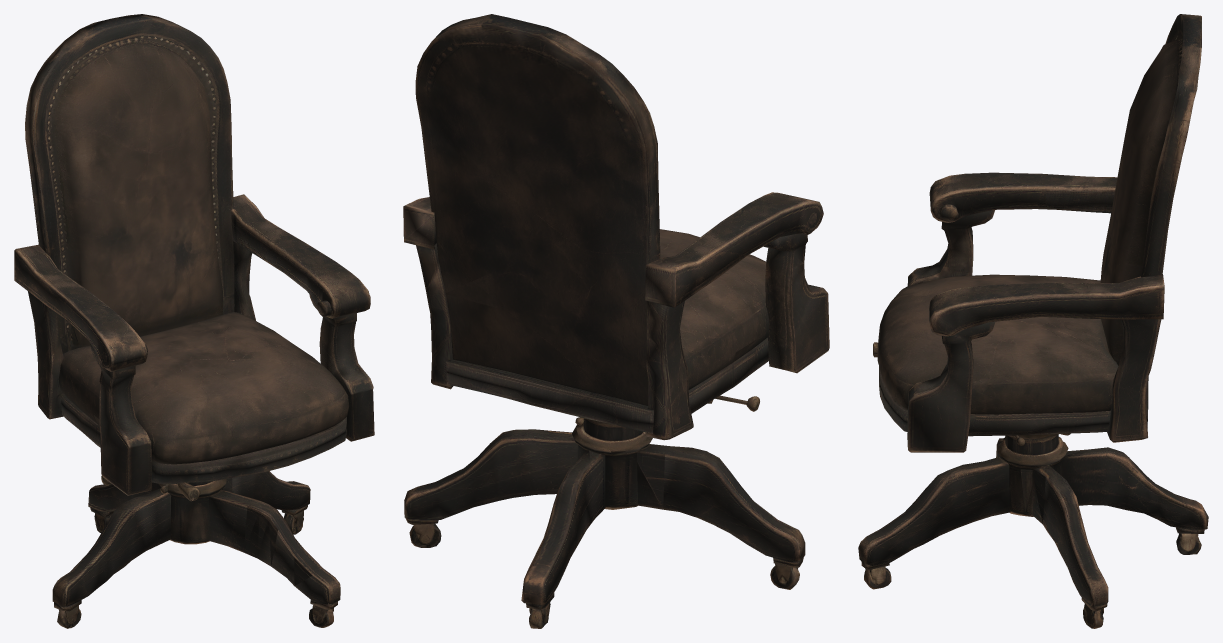
The model's file is chair2.fbx.
3 views of the same model, side by side, from view 1: azimuth 30°, elevation 25°; view 2: azimuth 150°, elevation 25°; view 3: azimuth 270°, elevation 25° (orthographic). The views are drawn at different scales.
Parts seen in each view (by area): view 1: mesh_node; view 2: mesh_node; view 3: mesh_node.
Part boxes in pixels (bbox=[...]): mesh_node: bbox=[14, 14, 374, 628]; mesh_node: bbox=[403, 14, 829, 628]; mesh_node: bbox=[858, 14, 1208, 628].
Bounding box in the file's own units: 61.13 × 100 × 59.96.
Materials: 1 (1 with a texture image).
